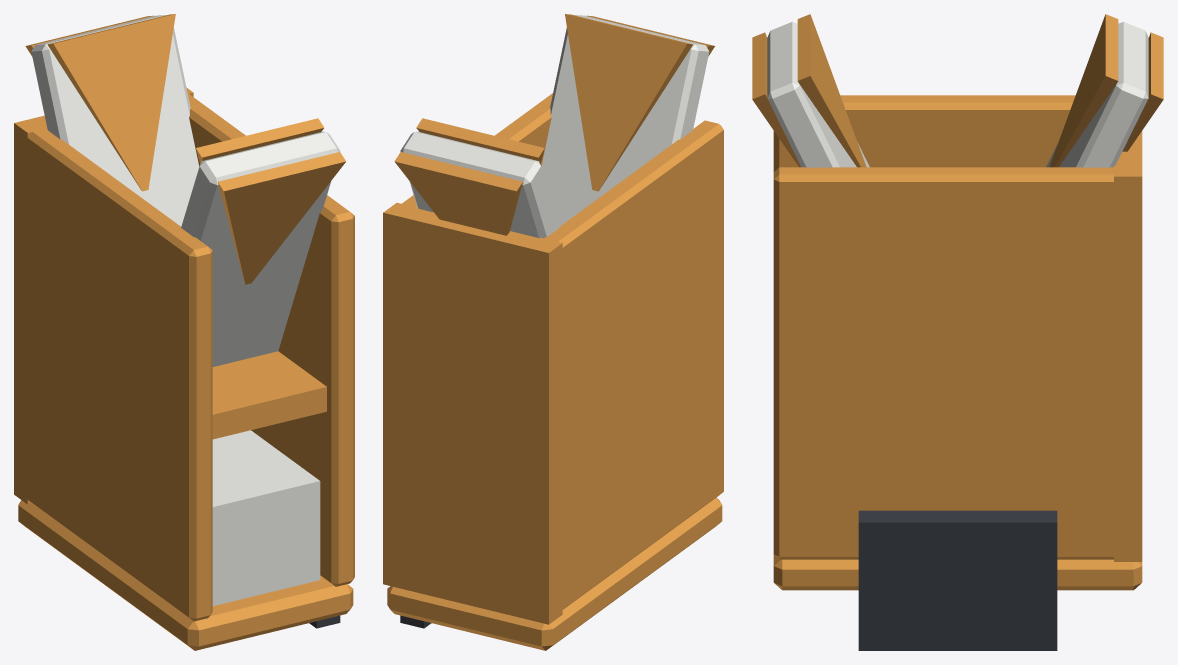
The model's file is autoreply_m0_2.glb.
3 renders of one model, left to right at view 1: azimuth 30°, elevation 25°; view 2: azimuth 150°, elevation 25°; view 3: azimuth 270°, elevation 25°, orthographic. The views are drawn at different scales.
Visible parts, largest first — view 1: autoreply_m0_2_mesh; view 2: autoreply_m0_2_mesh; view 3: autoreply_m0_2_mesh.
Part boxes in pixels (x1=…): autoreply_m0_2_mesh: x1=14, y1=14, x2=354, y2=650; autoreply_m0_2_mesh: x1=383, y1=14, x2=723, y2=650; autoreply_m0_2_mesh: x1=752, y1=14, x2=1163, y2=650.
Bounding box in the file's own units: 0.16 × 0.4301 × 0.2905.
